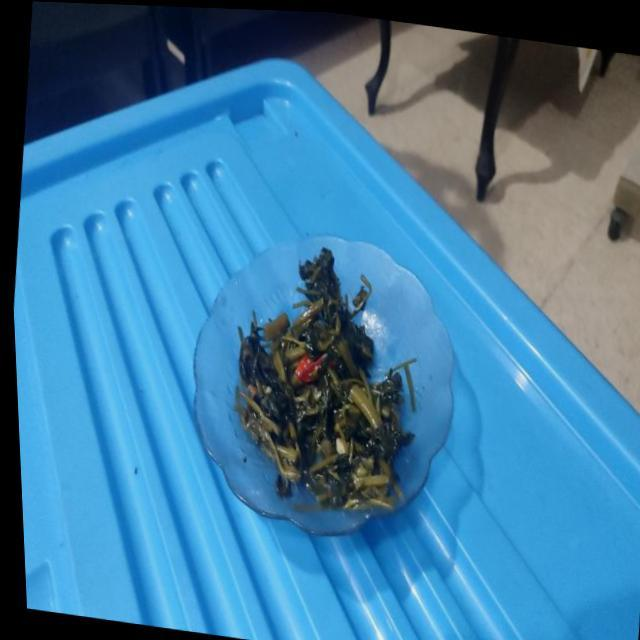tumis_kangkung: (234, 247, 415, 509)
